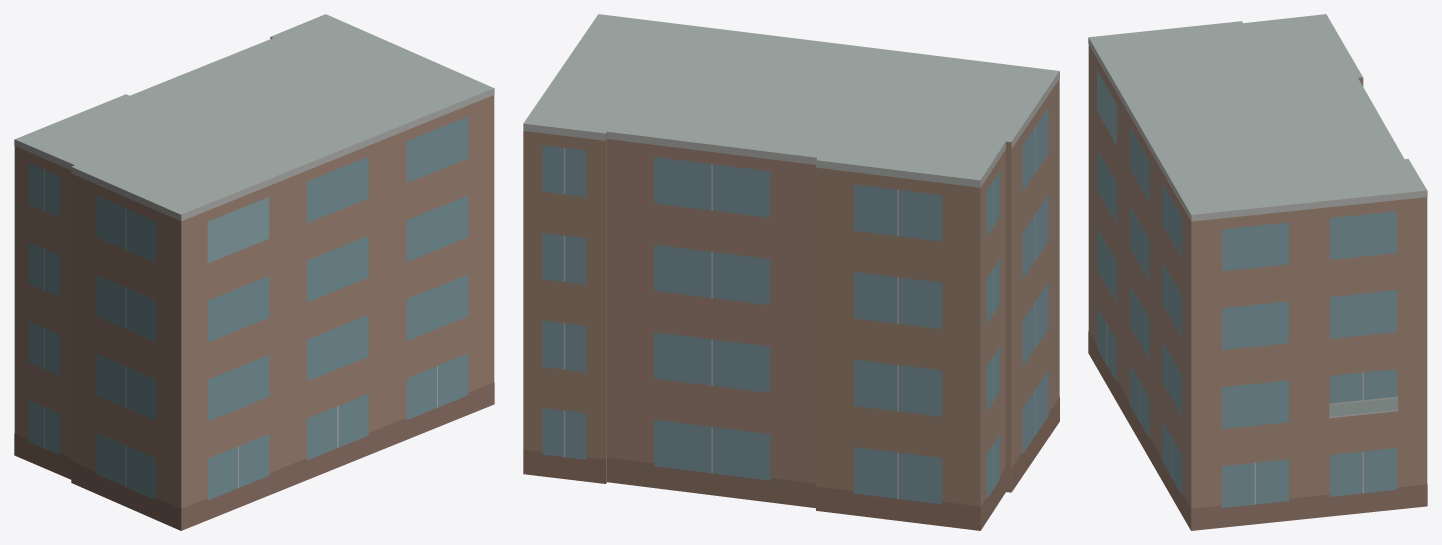
Rendered from survey-upis-33007802.glb.
3 renders of one model, left to right at view 1: azimuth 30°, elevation 25°; view 2: azimuth 150°, elevation 25°; view 3: azimuth 270°, elevation 25°, orthographic. The views are drawn at different scales.
Visible parts, largest first — view 1: survey-upis-33007802.tmp; view 2: survey-upis-33007802.tmp; view 3: survey-upis-33007802.tmp.
Boxes of the visible parts, x1,y1,x2,y2 form: survey-upis-33007802.tmp: (14,14,494,530); survey-upis-33007802.tmp: (523,14,1059,530); survey-upis-33007802.tmp: (1088,14,1427,530).
Size of the model in its own units: 15.98 by 11.7 by 11.39.
